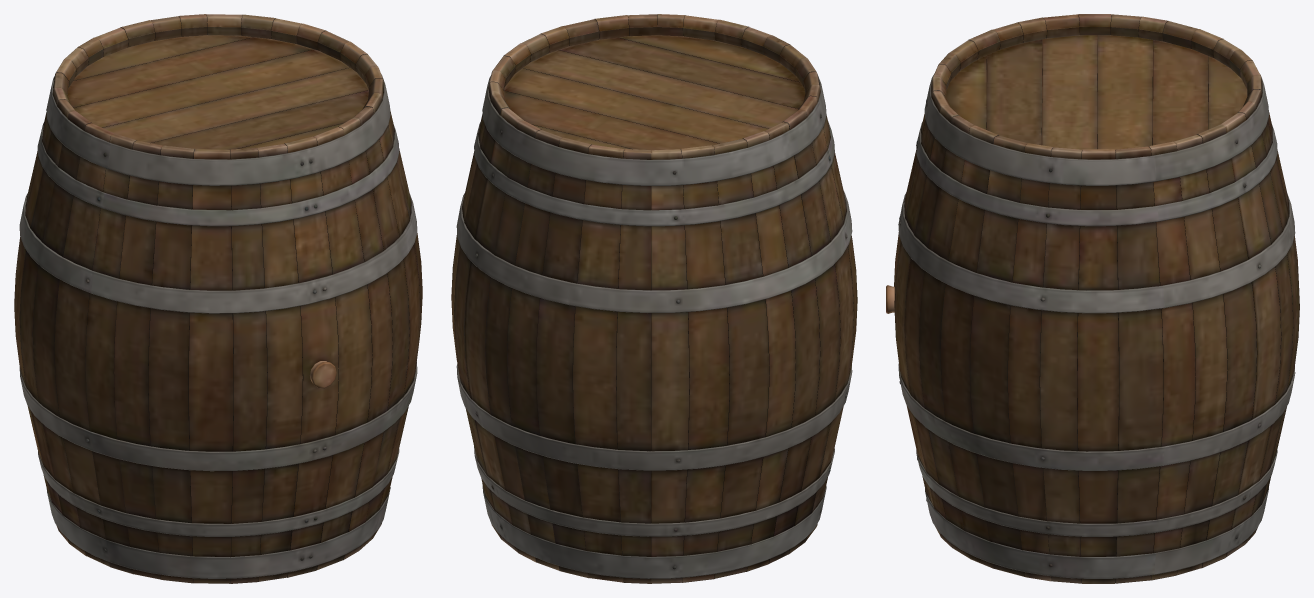
File: wine_barrel_01.glb
3 views of the same model, side by side, from view 1: azimuth 30°, elevation 25°; view 2: azimuth 150°, elevation 25°; view 3: azimuth 270°, elevation 25° (orthographic).
Parts seen in each view (by area): view 1: wine_barrel_01_Lid; view 2: wine_barrel_01_Lid; view 3: wine_barrel_01_Lid.
Part boxes in pixels (x1,y1,x2,y2): wine_barrel_01_Lid: [14, 14, 422, 583]; wine_barrel_01_Lid: [451, 14, 857, 583]; wine_barrel_01_Lid: [886, 14, 1299, 583].
Size of the model in its own units: 0.7419 by 0.8713 by 0.7561.
Materials: 1 (1 with a texture image).
